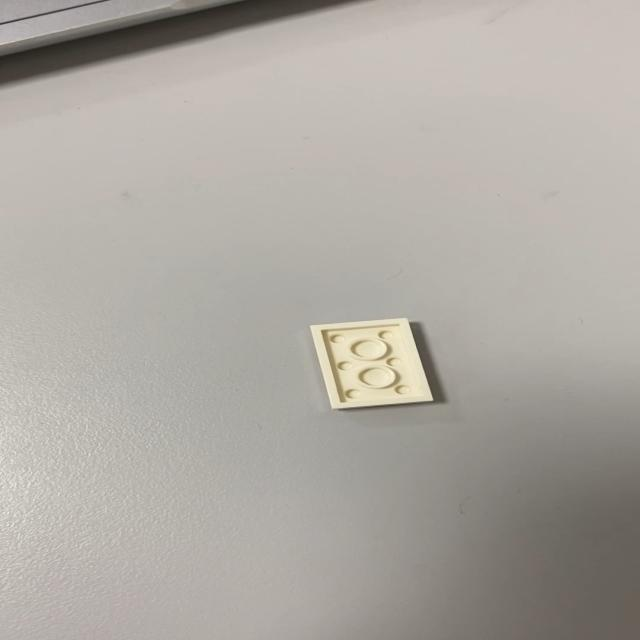C3x2x0: (308, 317, 434, 410)
